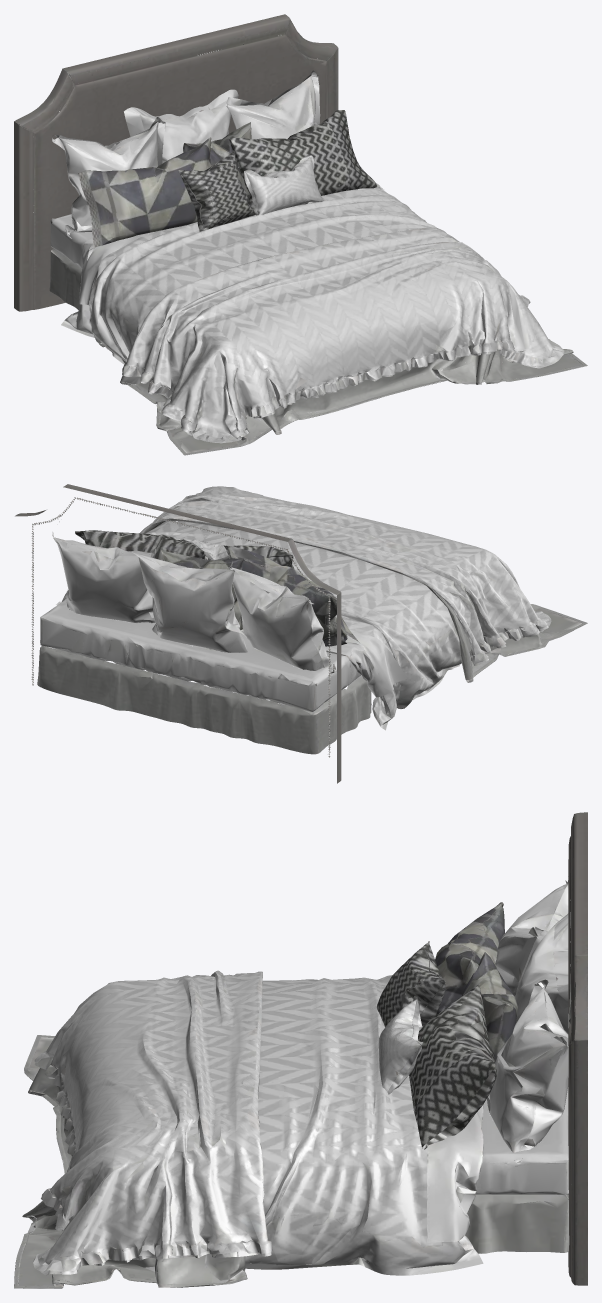
3 renders of one model, top to bottom at view 1: azimuth 30°, elevation 25°; view 2: azimuth 150°, elevation 25°; view 3: azimuth 270°, elevation 25°, orthographic. The views are drawn at different scales.
Parts seen in each view (by area): view 1: solid_001; view 2: solid_001; view 3: solid_001.
Part boxes in pixels (left/top/right/bottom): solid_001: left=14, top=14, right=587, bottom=455; solid_001: left=15, top=484, right=587, bottom=783; solid_001: left=14, top=812, right=587, bottom=1288.
Bounding box in the file's own units: 1.9 × 1.05 × 1.82.
1 material, 1 textured.
